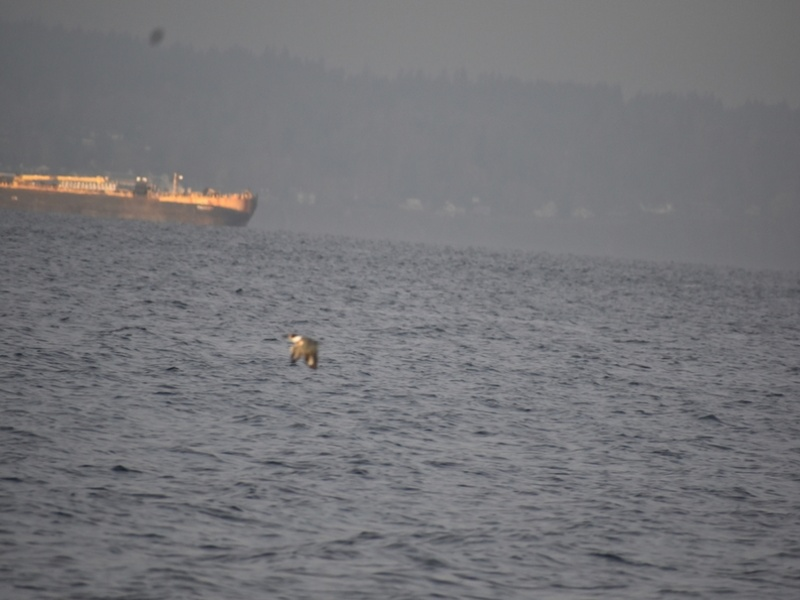kingfisher: (287, 331, 321, 372)
